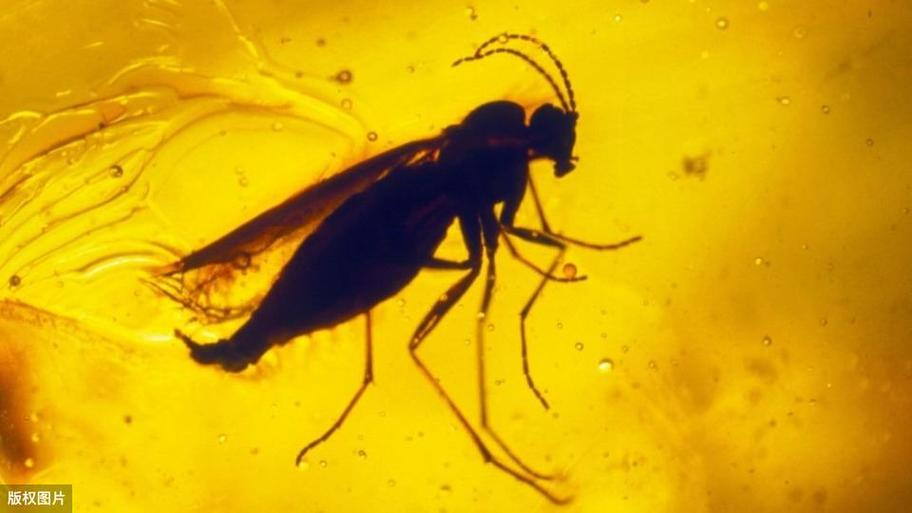Cecidomyiidae: (149, 30, 645, 505)
